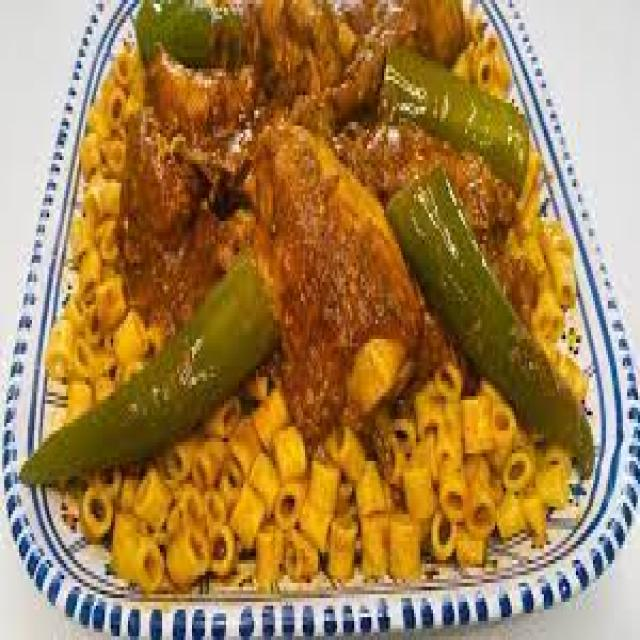Pasta: (31, 0, 606, 615)
